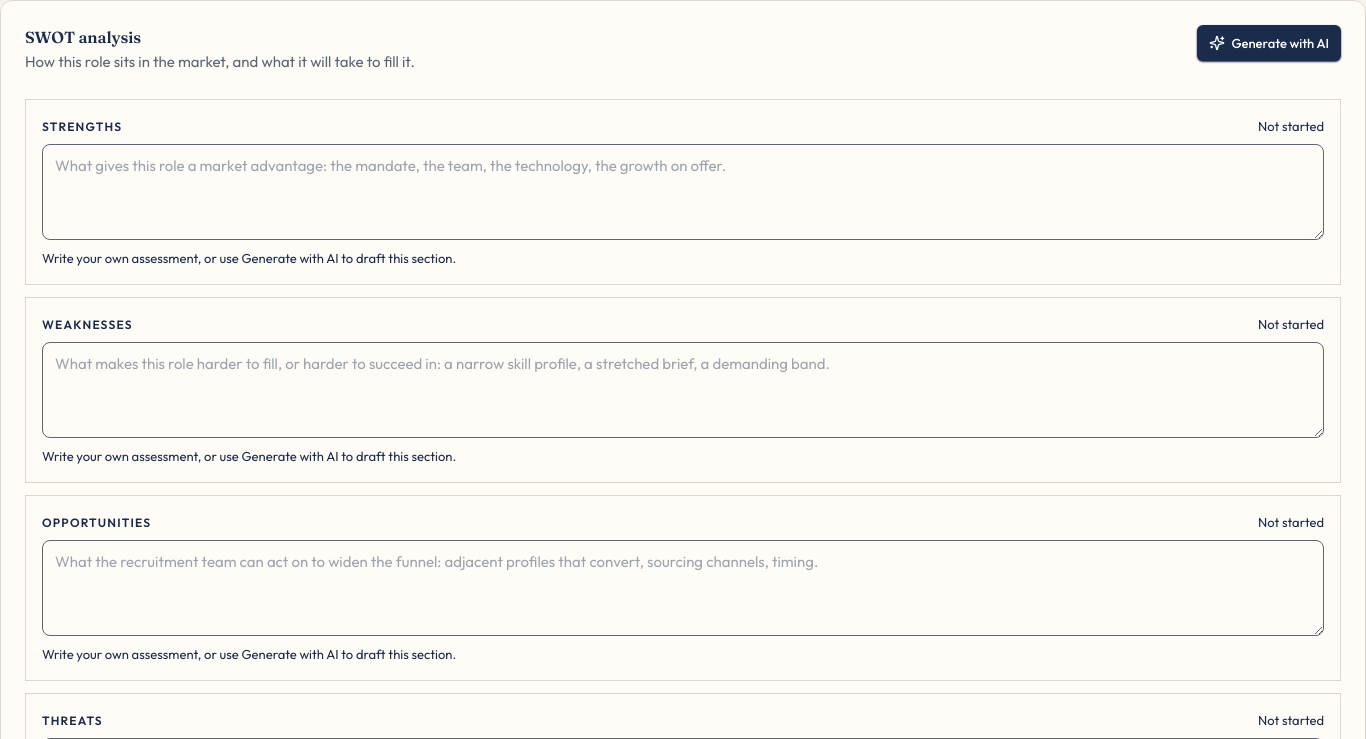
generation is dispatched work › shows a refusal that is not the human-edit gate in the server's words
Click the button "Generate with AI" at (1269, 43), box [1197, 25, 1341, 61]
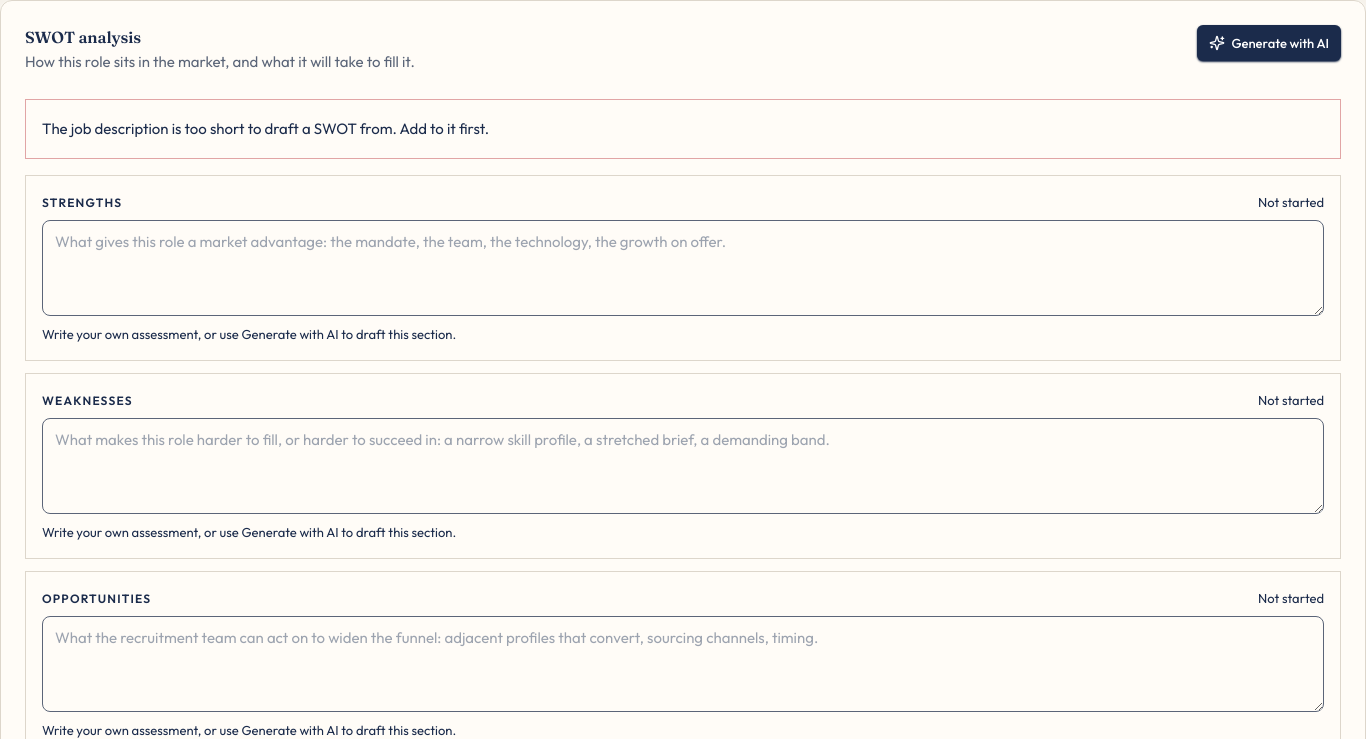
Result: the text "The job description is too short to draft a SWOT from. Add to it first." is shown at [25, 99, 1341, 159]
